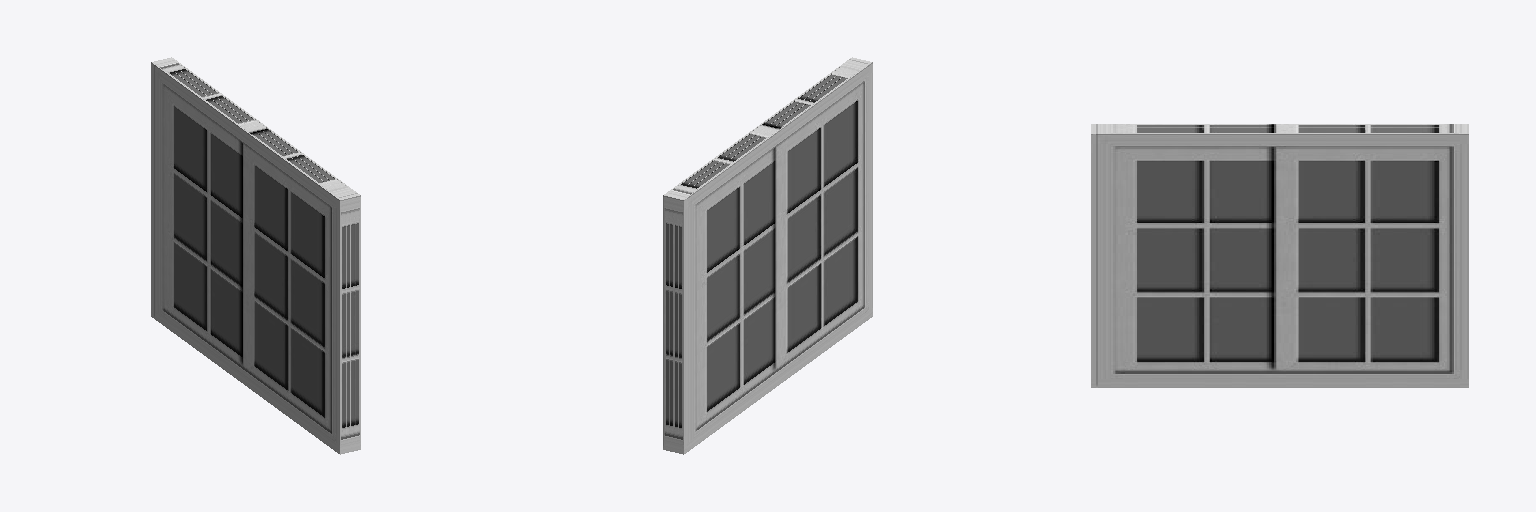
3 renders of one model, left to right at view 1: azimuth 30°, elevation 25°; view 2: azimuth 150°, elevation 25°; view 3: azimuth 270°, elevation 25°, orthographic.
Visible parts, largest first — view 1: Cube_Cube.002; view 2: Cube_Cube.002; view 3: Cube_Cube.002.
Part boxes in pixels (x1,y1,x2,y2): Cube_Cube.002: (151, 57, 360, 454); Cube_Cube.002: (663, 57, 872, 454); Cube_Cube.002: (1091, 124, 1468, 387).
Size of the model in its own units: 0.1821 by 2.12 by 2.86.
Materials: 1 (1 with a texture image).